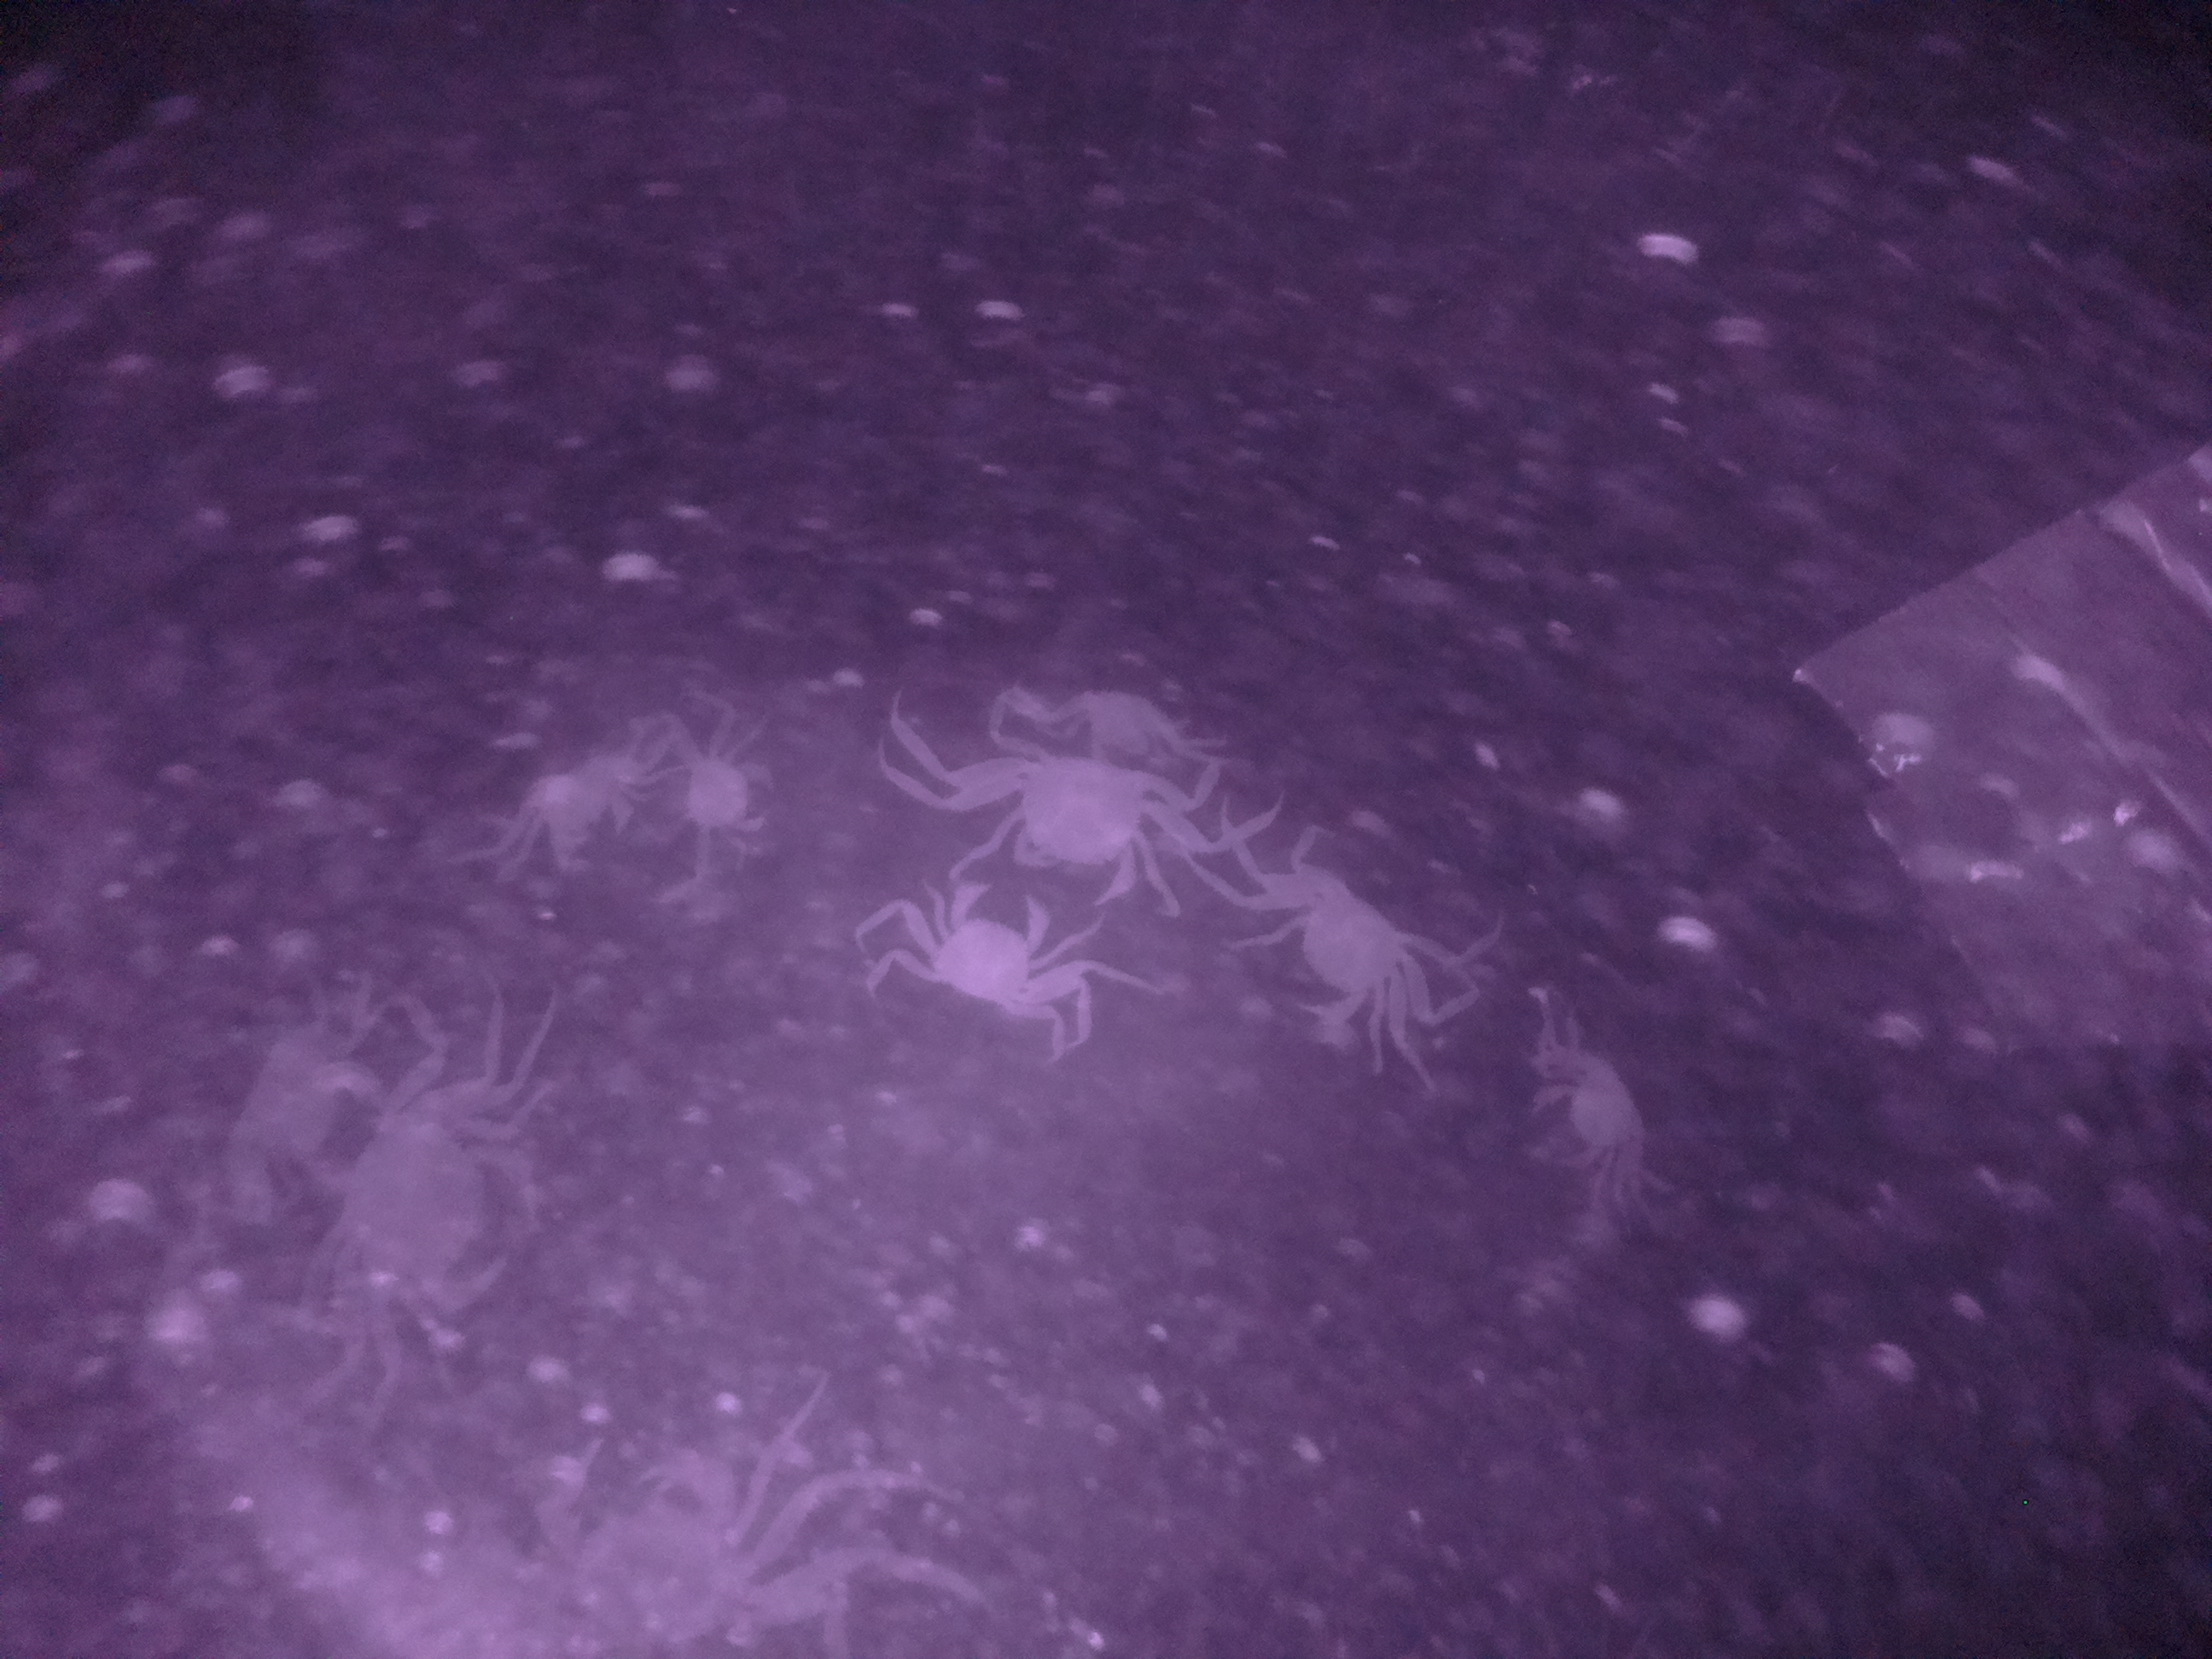Crab: (326, 1065, 561, 1373), (991, 718, 1177, 925), (1242, 850, 1446, 1039), (1531, 1032, 1679, 1183), (909, 875, 1062, 1009), (658, 735, 796, 871)
